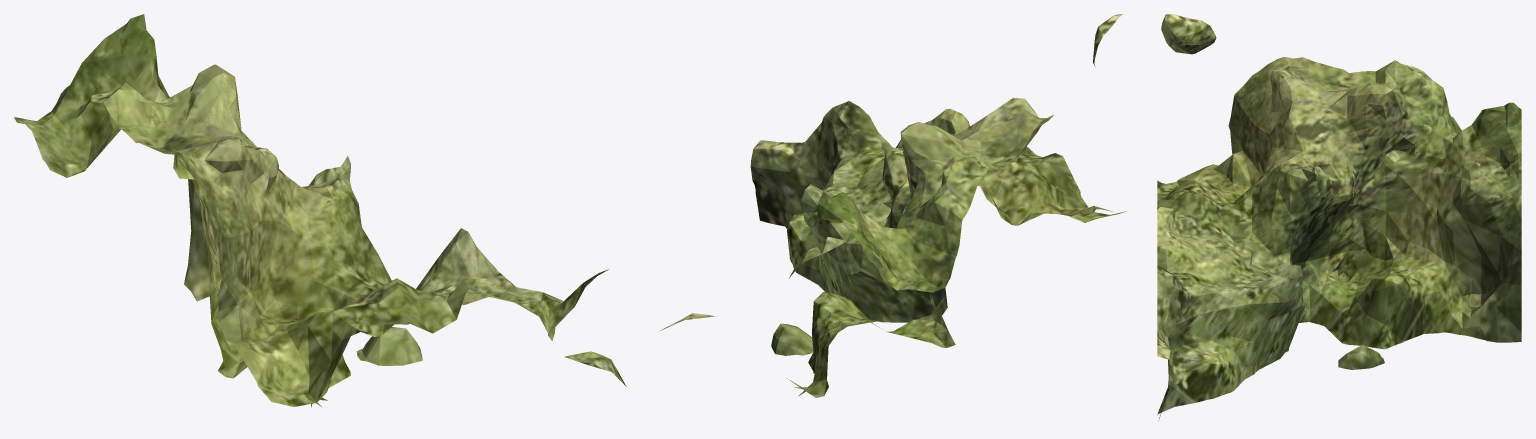
The picture shows the model from 3 angles, left to right: view 1: azimuth 30°, elevation 25°; view 2: azimuth 150°, elevation 25°; view 3: azimuth 270°, elevation 25°; orthographic projection. The views are drawn at different scales.
Bounding box in the file's own units: 2.95 × 2.3 × 2.95.
3 materials, 3 textured.
